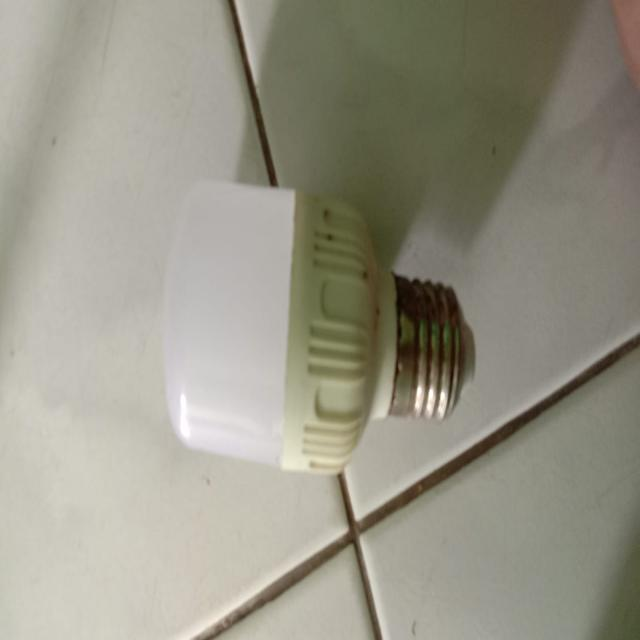lampu: (139, 151, 489, 514)
